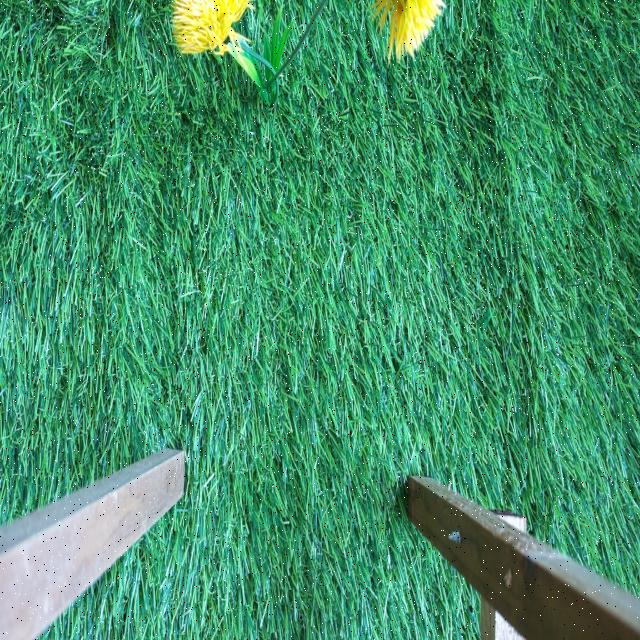base: (245, 24, 287, 110)
flower: (171, 0, 250, 55), (372, 0, 445, 58)
